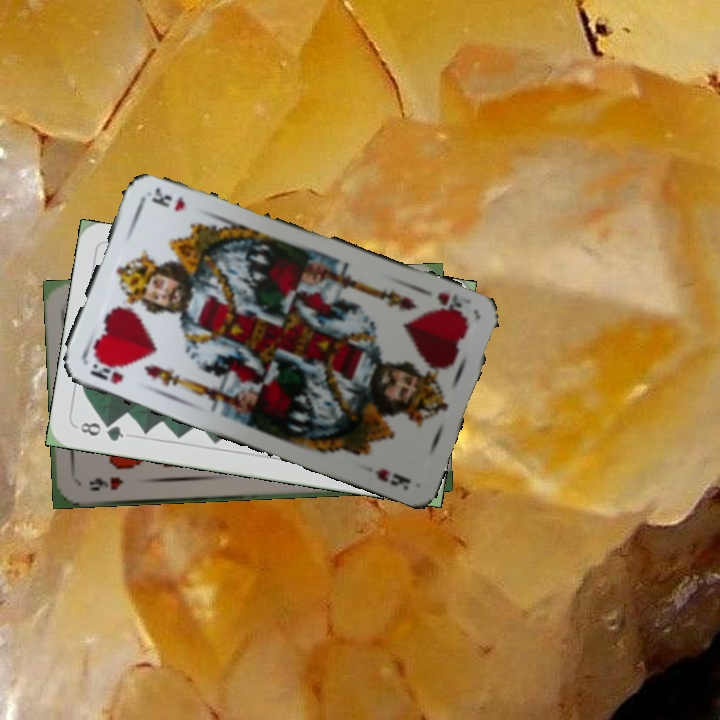G8: (76, 418, 127, 444)
H9: (85, 472, 126, 494)
HK: (85, 352, 126, 387), (433, 287, 473, 321)
